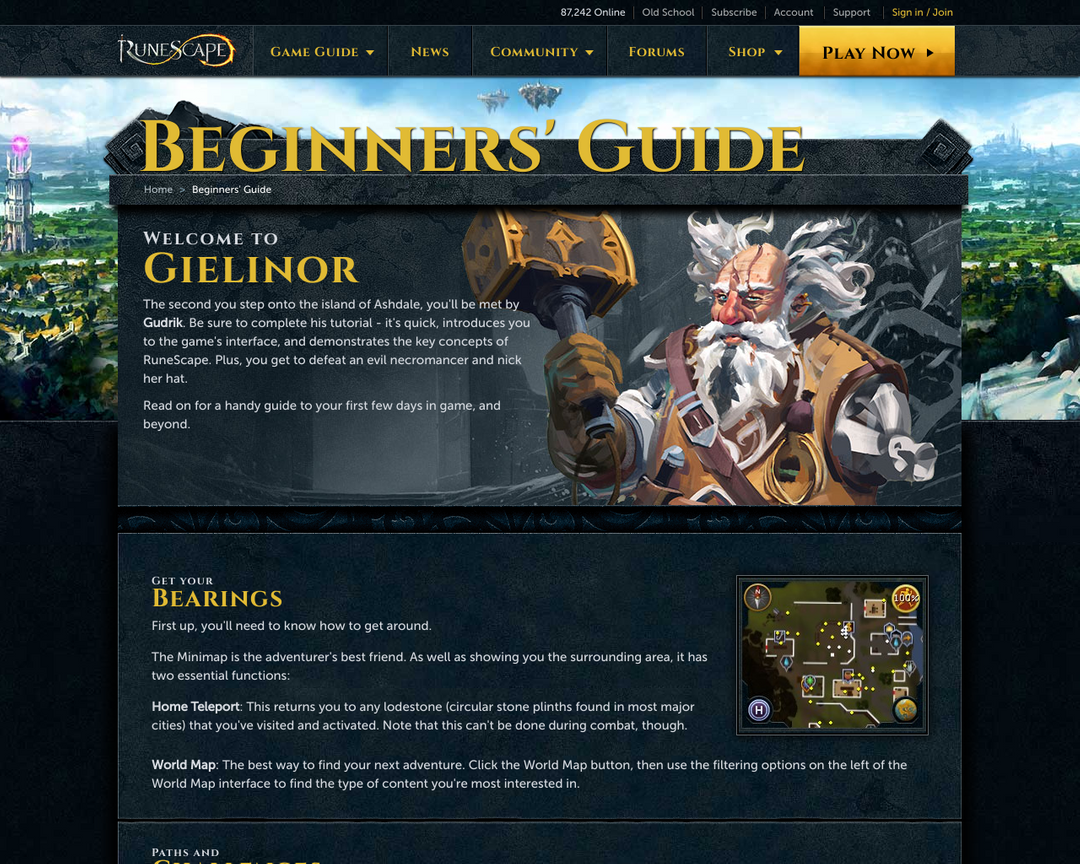Runescape: (110, 27, 243, 69)
